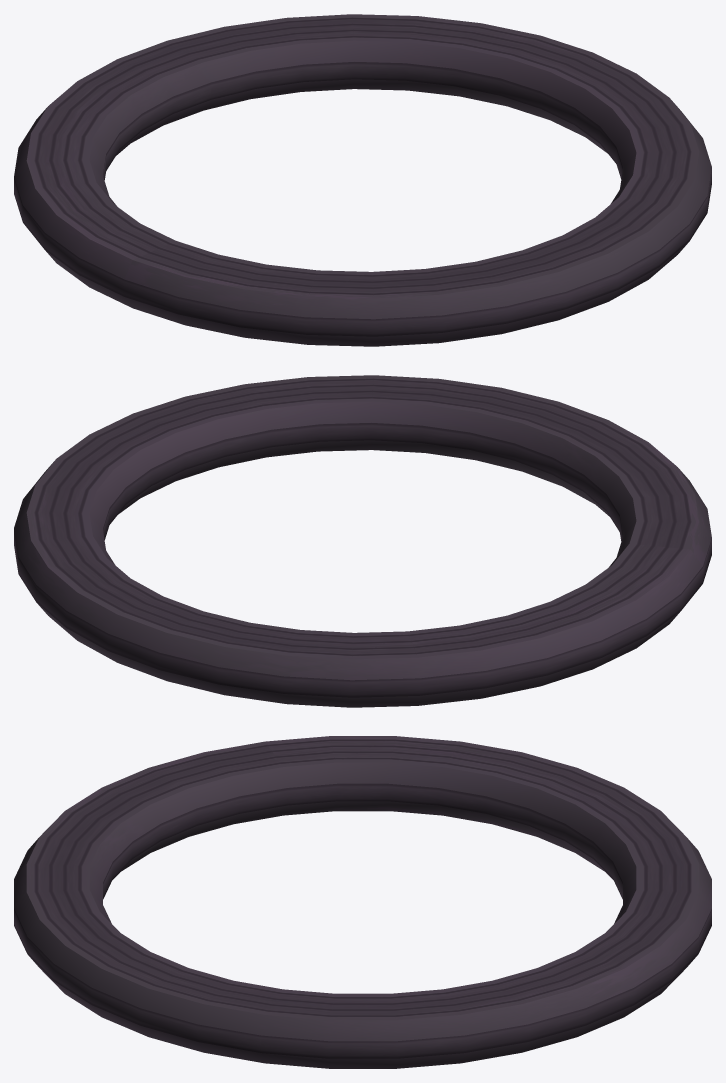
File: AO Ring.fbx
3 renders of one model, top to bottom at view 1: azimuth 30°, elevation 25°; view 2: azimuth 150°, elevation 25°; view 3: azimuth 270°, elevation 25°, orthographic.
Parts seen in each view (by area): view 1: Ring; view 2: Ring; view 3: Ring.
Part boxes in pixels (<box>): Ring: <box>14,14,711,346</box>; Ring: <box>14,375,711,707</box>; Ring: <box>14,736,711,1068</box>.
Bounding box in the file's own units: 1312 × 101 × 1312.
